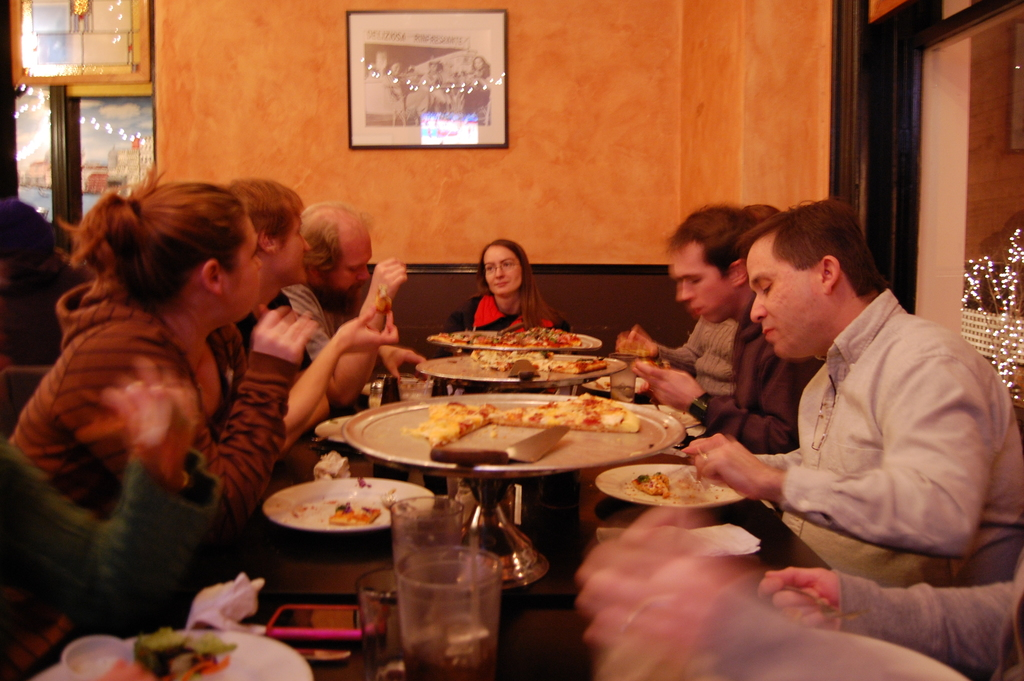Pizza: (489, 389, 642, 434), (423, 318, 588, 358), (101, 634, 231, 673), (315, 479, 389, 531), (478, 354, 611, 381), (636, 463, 682, 503)
